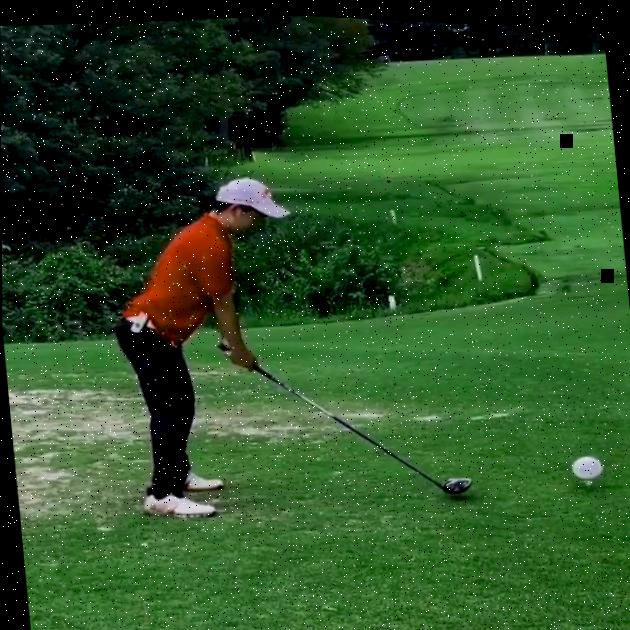ClubHead: (441, 471, 473, 491)
